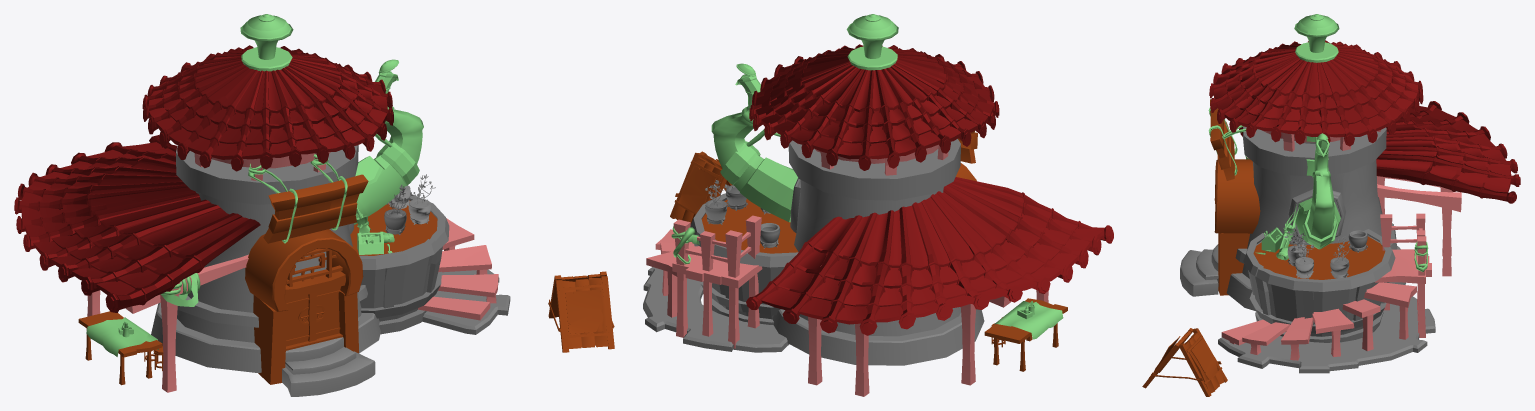
Rendered from TeaPotHouse.fbx.
3 renders of one model, left to right at view 1: azimuth 30°, elevation 25°; view 2: azimuth 150°, elevation 25°; view 3: azimuth 270°, elevation 25°, orthographic. The views are drawn at different scales.
Parts seen in each view (by area): view 1: LoweredRoof, CircledRoof, MainBuilding, DoorFrame, Balcony, Chimney, RoadSign, HeadSign, Stairs, DoorStairs, RoofLogs, Door (+12 smaller); view 2: LoweredRoof, CircledRoof, MainBuilding, Stairs, Chimney, StairsBase, RoofLogs, Balcony, RoadSign, RoofTop, BalconyFloor, Table (+4 smaller); view 3: CircledRoof, MainBuilding, LoweredRoof, Stairs, Balcony, StairsBase, DoorFrame, Chimney, BalconyFloor, RoadSign, RoofLogs, DoorStairs (+10 smaller).
Part boxes in pixels (<box>): LoweredRoof: <box>14,135,260,312</box>; CircledRoof: <box>142,45,393,171</box>; MainBuilding: <box>151,145,380,372</box>; DoorFrame: <box>245,229,363,384</box>; Balcony: <box>359,194,449,334</box>; Chimney: <box>354,59,423,224</box>; RoadSign: <box>548,271,614,352</box>; HeadSign: <box>263,174,368,243</box>; Stairs: <box>418,218,498,320</box>; DoorStairs: <box>282,337,375,396</box>; RoofLogs: <box>87,254,248,392</box>; Door: <box>285,286,340,346</box>; LoweredRoof: <box>746,177,1113,335</box>; CircledRoof: <box>749,44,999,170</box>; MainBuilding: <box>772,139,984,365</box>; Stairs: <box>646,215,762,348</box>; Chimney: <box>711,63,797,222</box>; StairsBase: <box>643,267,789,352</box>; RoofLogs: <box>808,265,1048,396</box>; Balcony: <box>690,193,798,324</box>; RoadSign: <box>670,151,732,224</box>; RoofTop: <box>846,14,898,70</box>; BalconyFloor: <box>701,199,798,253</box>; Table: <box>984,298,1067,371</box>; CircledRoof: <box>1209,40,1423,146</box>; MainBuilding: <box>1226,126,1405,310</box>; LoweredRoof: <box>1239,101,1520,203</box>; Stairs: <box>1221,213,1431,360</box>; Balcony: <box>1243,229,1395,342</box>; StairsBase: <box>1218,296,1435,373</box>; DoorFrame: <box>1214,159,1260,295</box>; Chimney: <box>1295,133,1340,249</box>; BalconyFloor: <box>1253,236,1385,279</box>; RoadSign: <box>1142,328,1227,396</box>; RoofLogs: <box>1247,157,1461,276</box>; DoorStairs: <box>1180,244,1218,296</box>.
Size of the model in its own units: 126 by 79.44 by 100.
